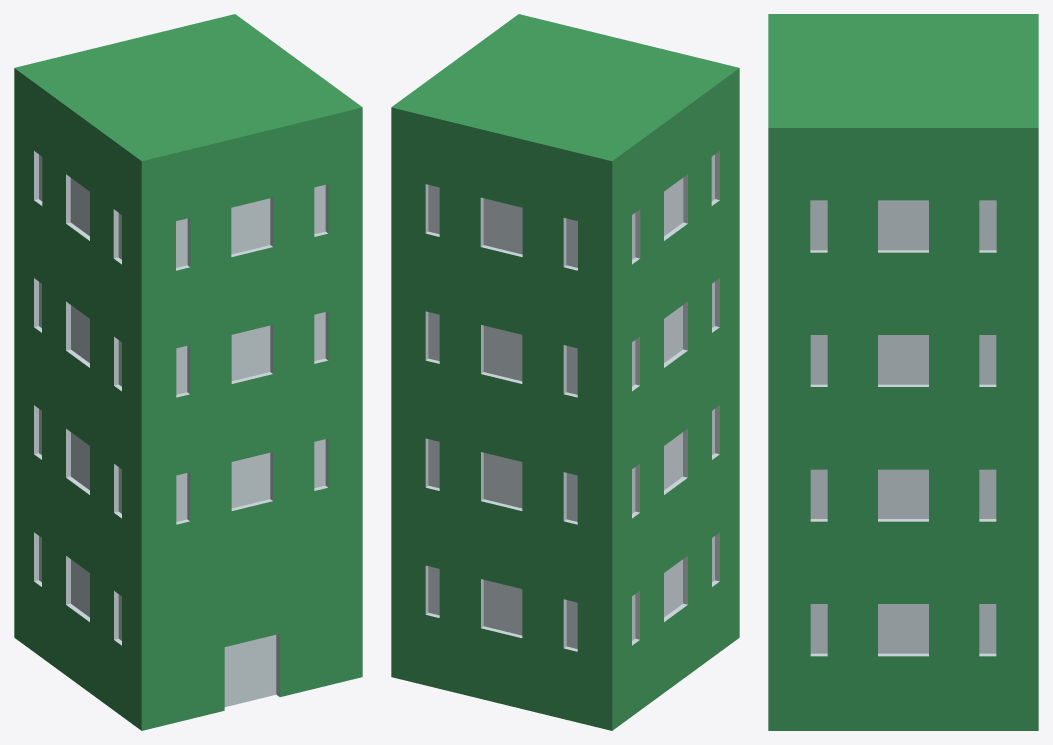
File: BrickBuildingGreen.fbx
3 views of the same model, side by side, from view 1: azimuth 30°, elevation 25°; view 2: azimuth 150°, elevation 25°; view 3: azimuth 270°, elevation 25° (orthographic). The views are drawn at different scales.
Visible parts, largest first — view 1: BrickBuilding; view 2: BrickBuilding; view 3: BrickBuilding.
Boxes of the visible parts, x1=… form: BrickBuilding: x1=14, y1=14, x2=362, y2=730; BrickBuilding: x1=391, y1=14, x2=739, y2=730; BrickBuilding: x1=768, y1=14, x2=1038, y2=730.
Size of the model in its own units: 1277 by 3145 by 1277.
